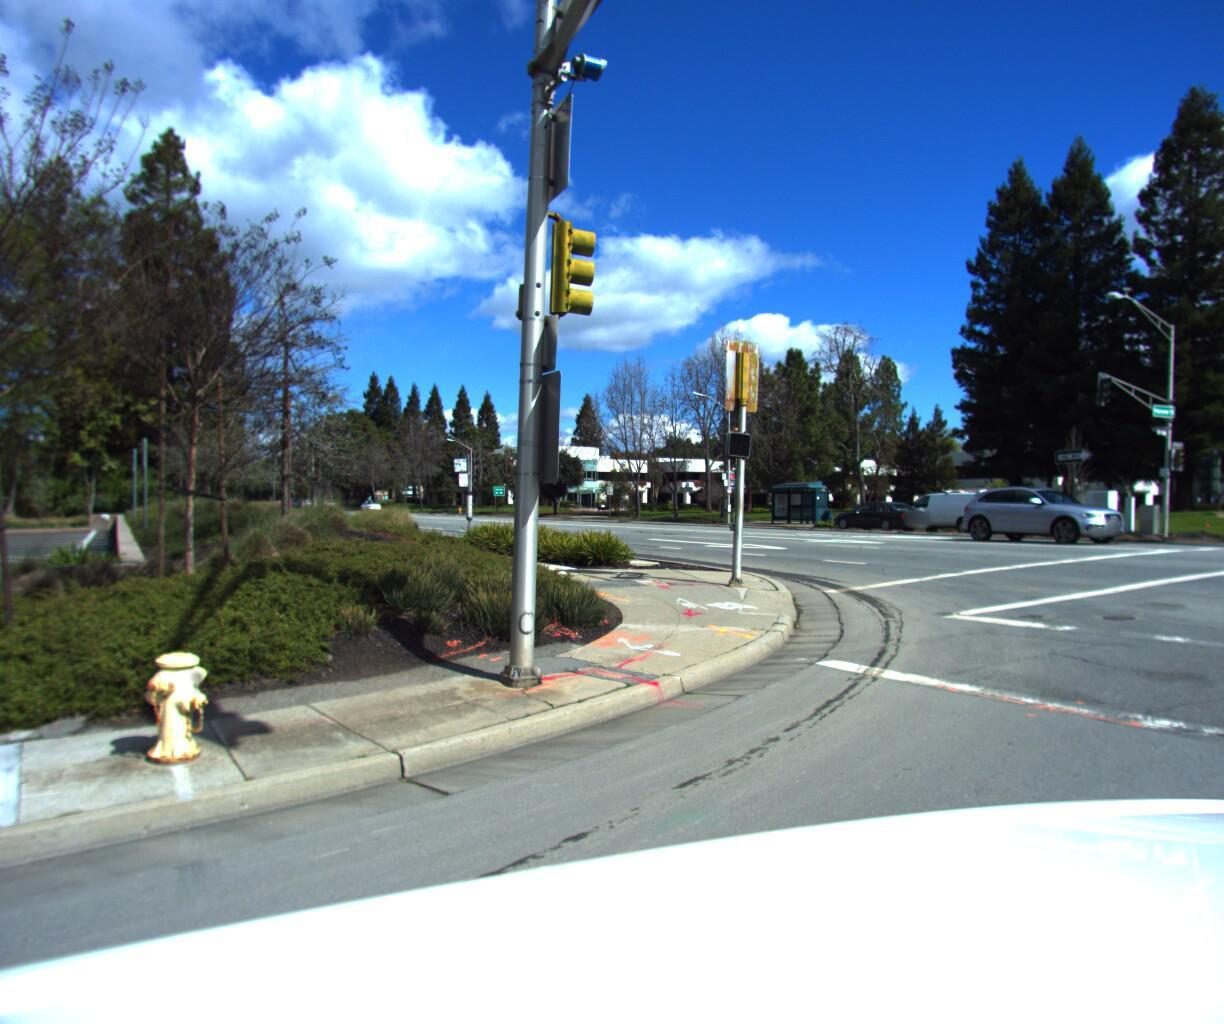car: (954, 485, 1144, 550), (891, 486, 1014, 539), (830, 503, 932, 536)
